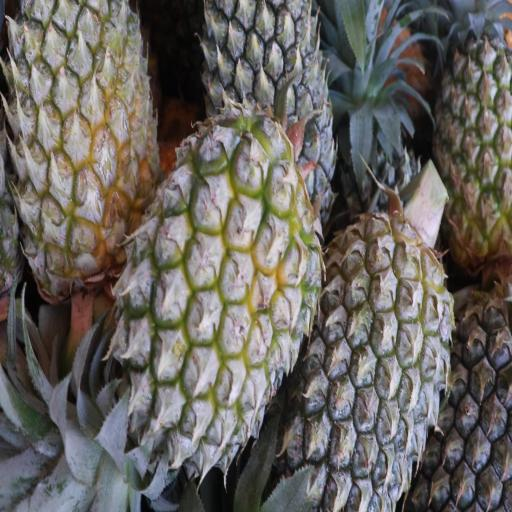------------------------------: (122, 128, 306, 464), (7, 0, 161, 280), (435, 10, 512, 248)
